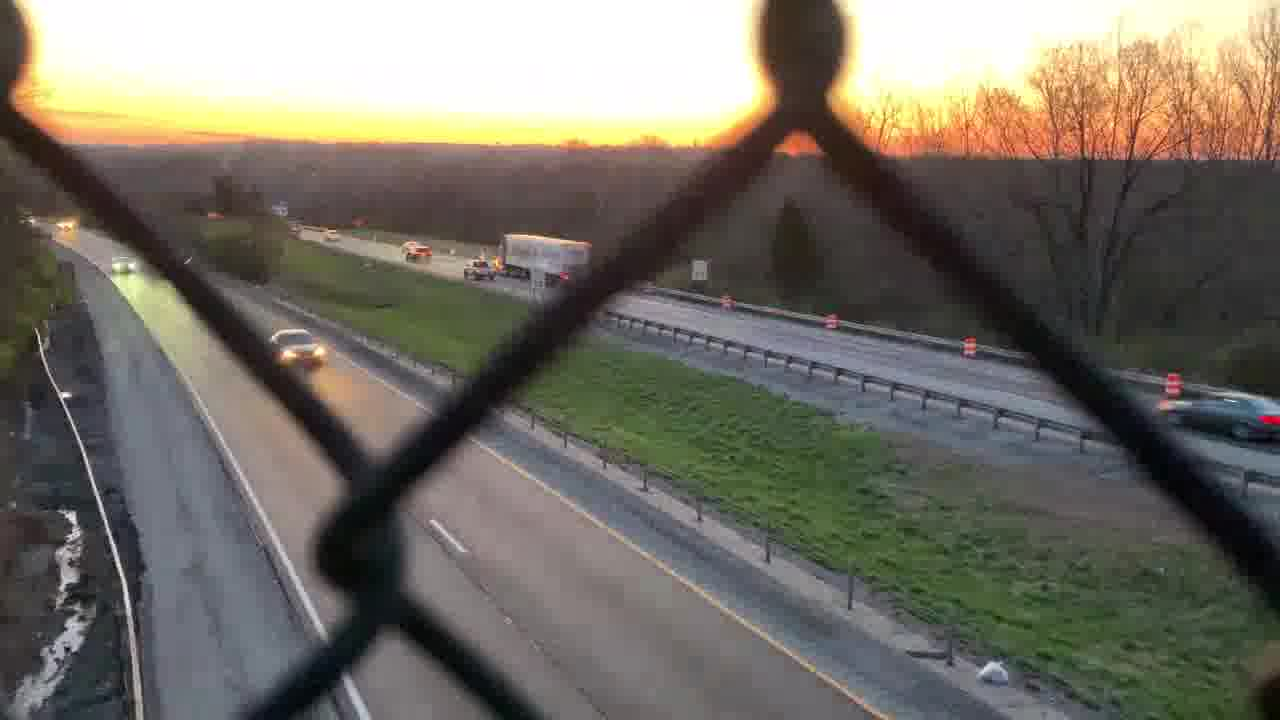heavyTruck: (495, 232, 596, 275)
lightTruck: (459, 262, 495, 281)
smallCar: (1156, 390, 1280, 445), (269, 329, 328, 378)
